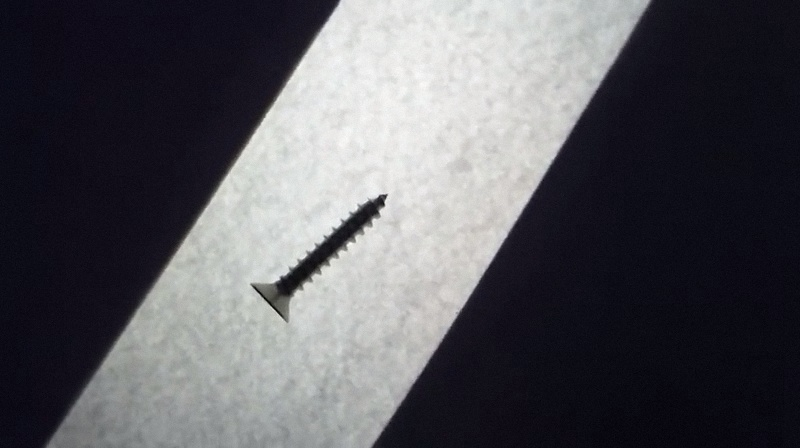S001: (243, 188, 393, 325)
